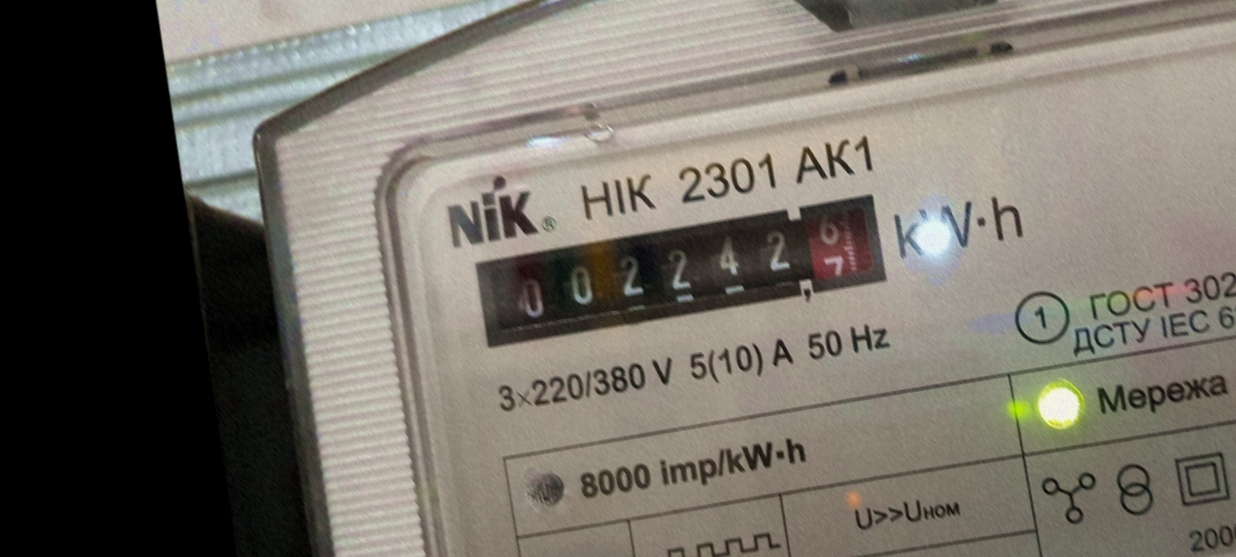0: (568, 259, 599, 304), (619, 250, 649, 295), (521, 271, 549, 318)
2: (764, 224, 795, 271), (667, 243, 697, 289)
4: (716, 230, 745, 276)
6: (817, 209, 846, 245)
7: (824, 250, 850, 276)
screen: (465, 178, 909, 361)
